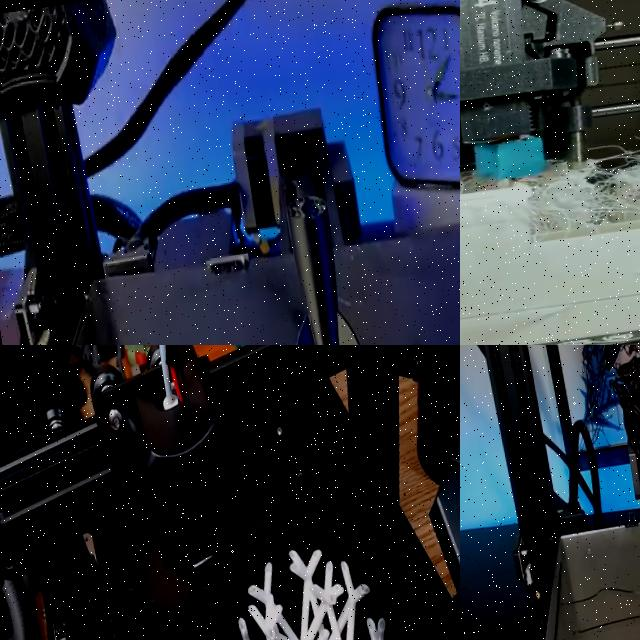spaghetti: (460, 109, 640, 345), (577, 345, 640, 451)
